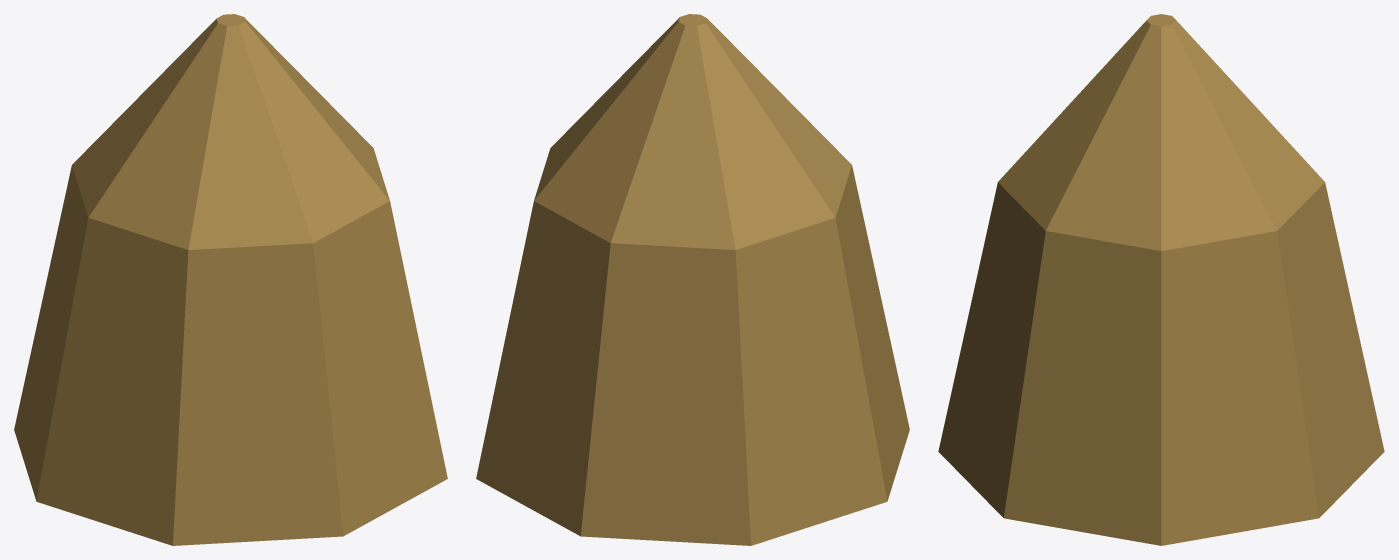
Rendered from dong-rom.glb.
3 renders of one model, left to right at view 1: azimuth 30°, elevation 25°; view 2: azimuth 150°, elevation 25°; view 3: azimuth 270°, elevation 25°, orthographic.
Visible parts, largest first — view 1: dong-rom; view 2: dong-rom; view 3: dong-rom.
Part boxes in pixels (bbox=[...]): dong-rom: bbox=[14, 14, 447, 545]; dong-rom: bbox=[476, 14, 909, 545]; dong-rom: bbox=[938, 14, 1384, 545].
Size of the model in its own units: 1.5 by 1.6 by 1.5.
